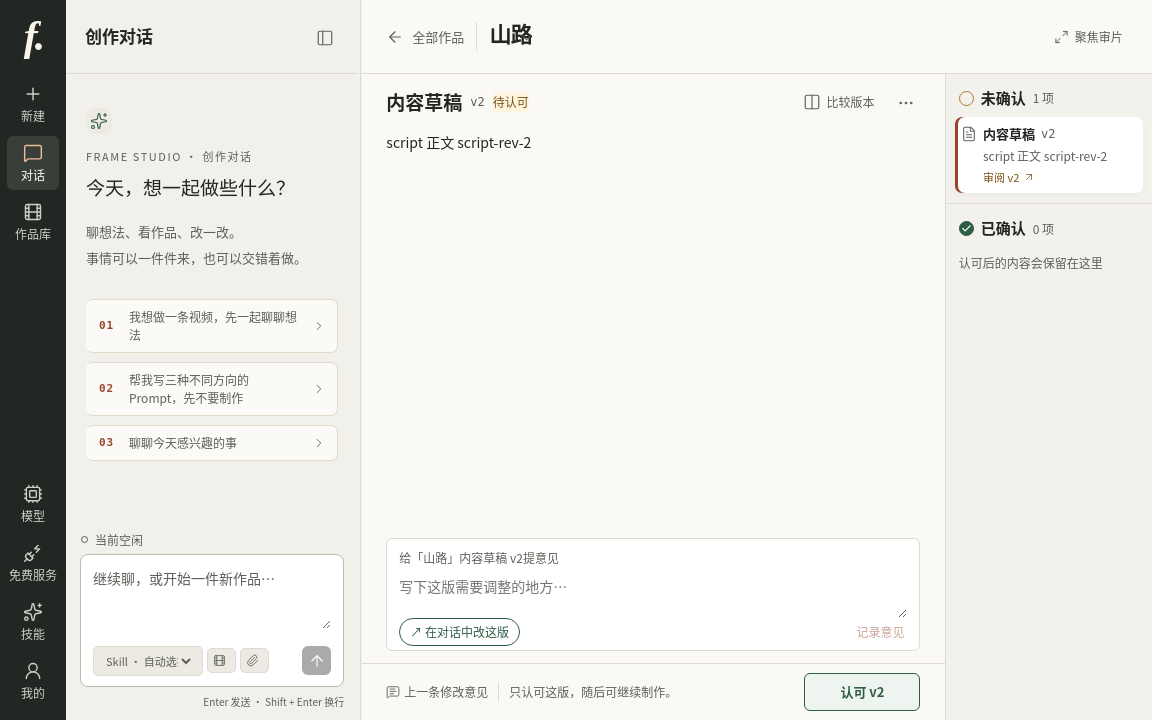
Test: DECISION-01 舞台「在对话中改这版」只预填草稿不发送；随后的消息携带作品与版本目标
The image size is (1152, 720).
绑定动作本身不产生任何请求，只把目标写进聊天草稿并亮出针对条。
Click the button "↗ 在对话中改这版".
click(460, 632)  # box 399,618 -> 520,646
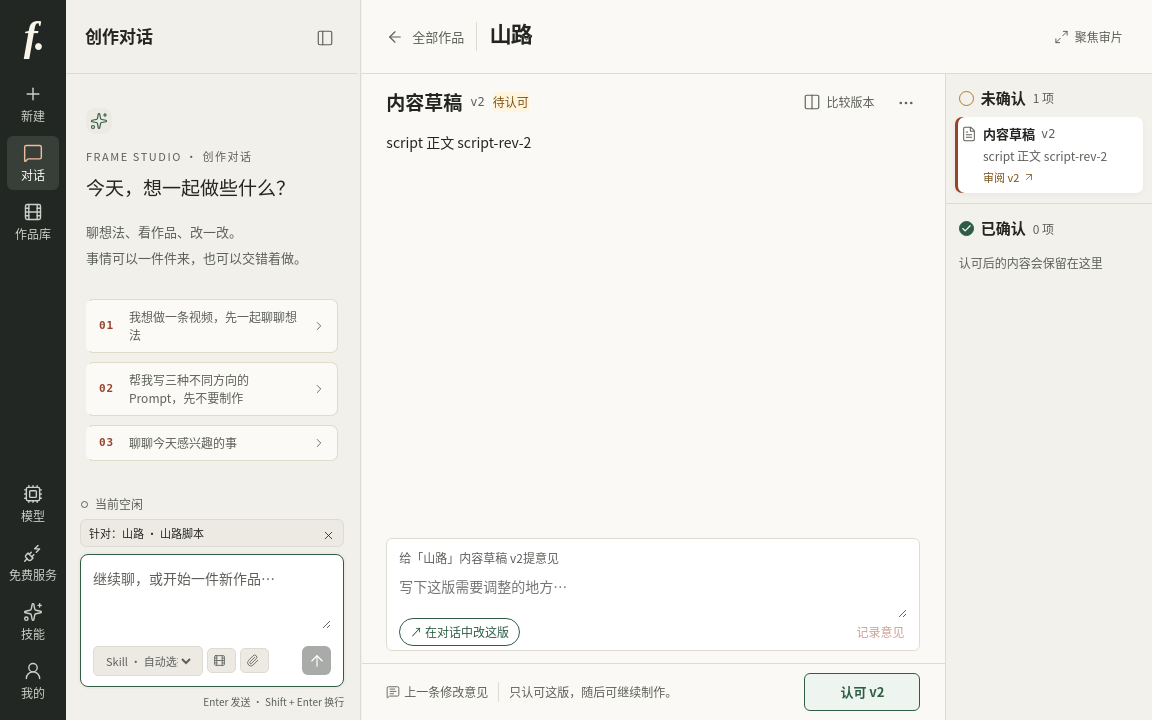
Now the text "针对：山路 · 山路脚本" is shown, box 80,519 -> 344,547
Type "保留意思，语气安静一点" into the text box named "消息输入".
click(212, 598); type("保留意思，语气安静一点")  # box 93,567 -> 331,629
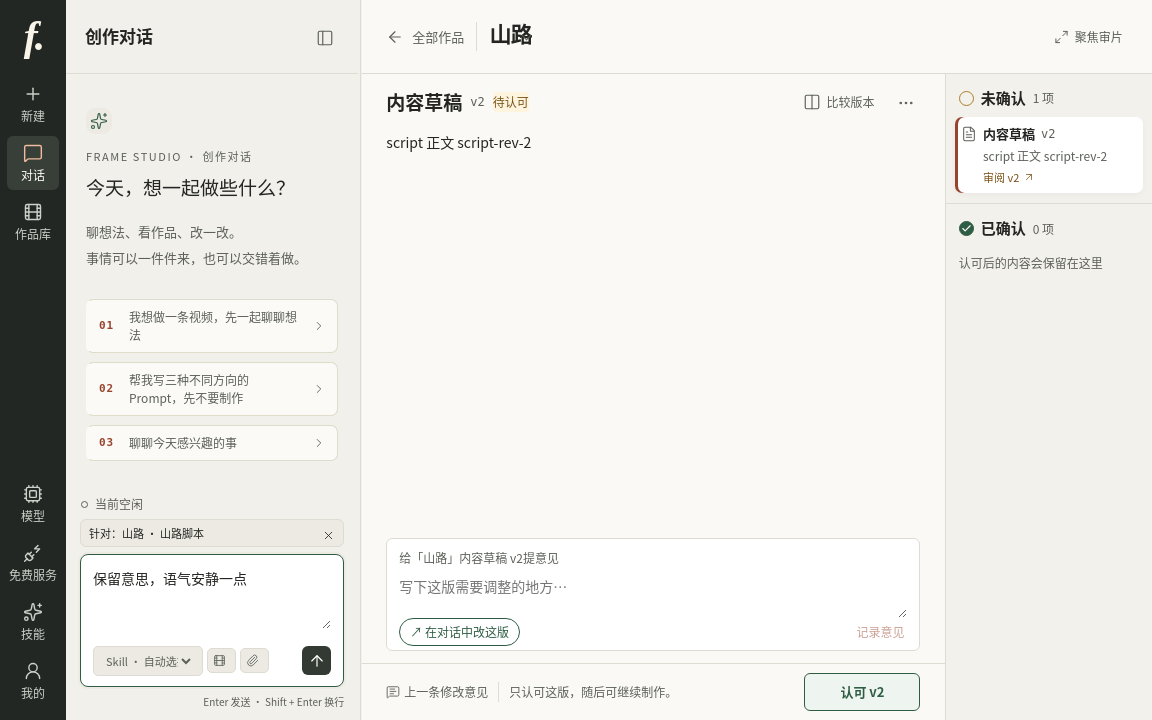
Click the button named "发送".
click(317, 660)  # box 302,646 -> 331,675
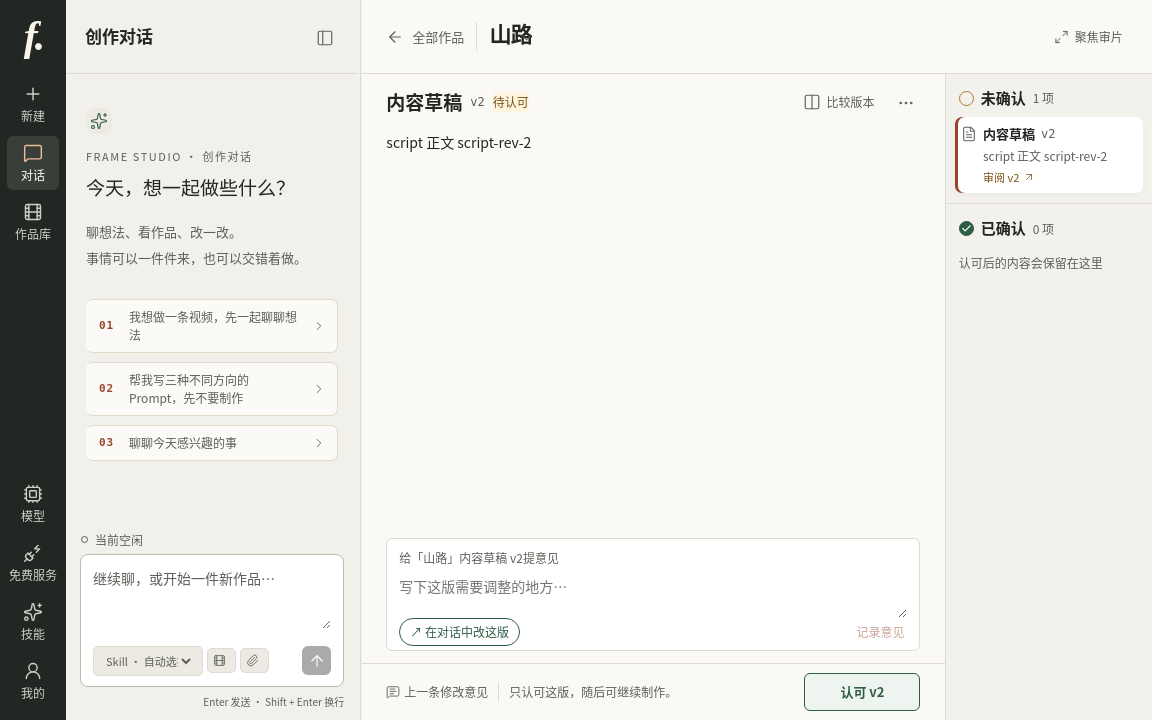
Now the text "针对：" is gone
